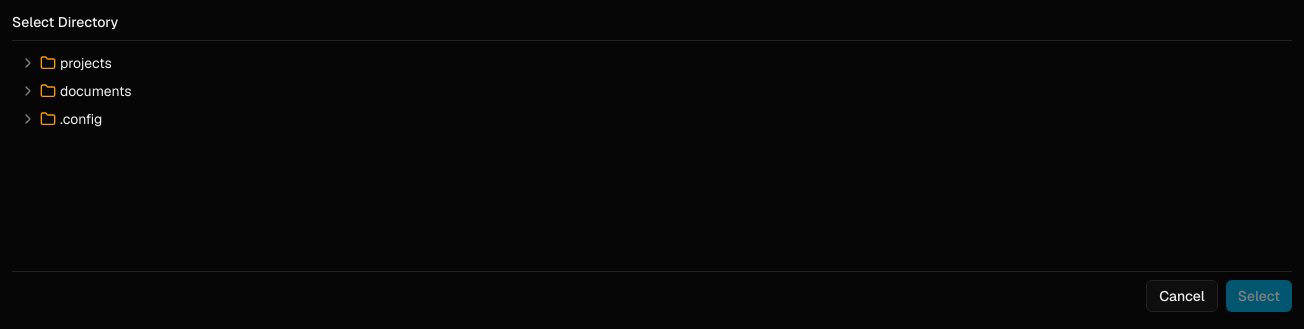
Test case: DirectoryPicker › directory expansion › should expand directory and load children when clicked
Note: Click to expand
Click the text "projects" at [86, 63], box [60,53,112,73]
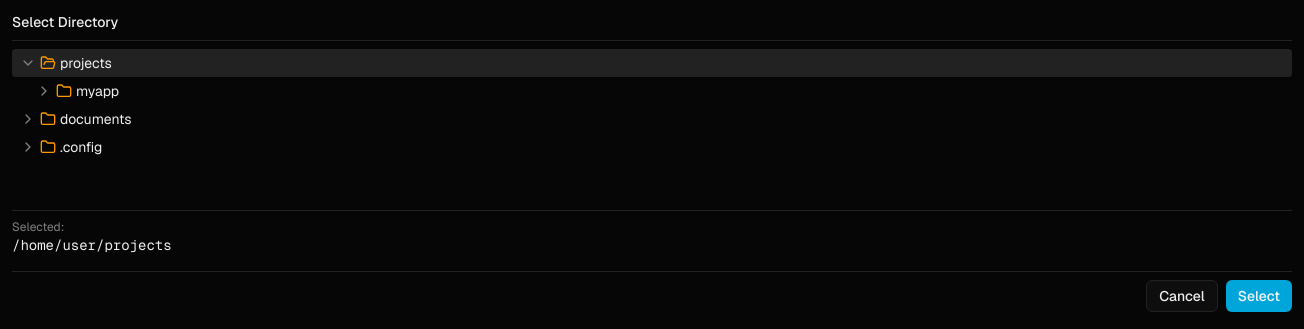
Expected: the text "myapp" is shown, [76,81,119,101]
